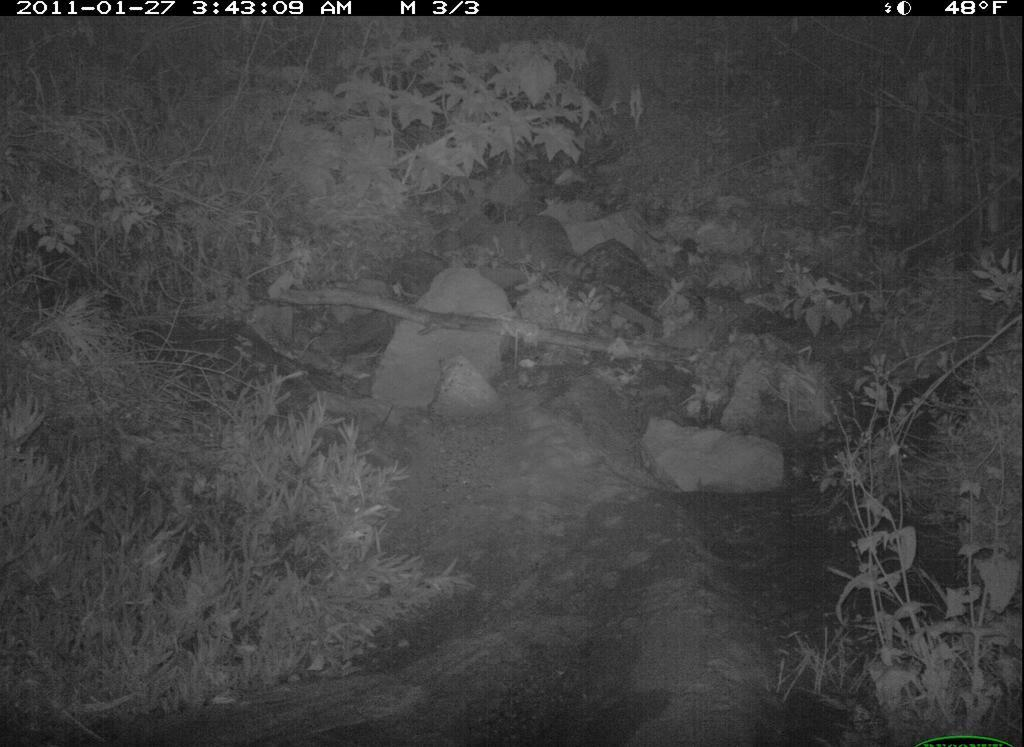raccoon: (515, 207, 602, 301)
